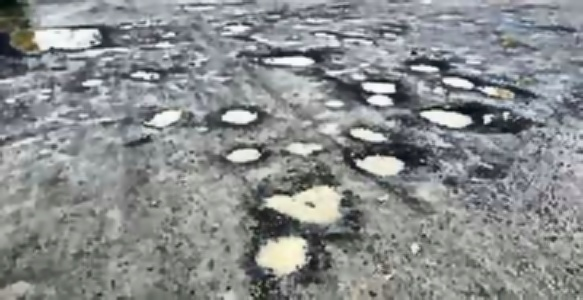pothole: (257, 180, 348, 223), (10, 23, 105, 52), (251, 232, 313, 274), (351, 149, 413, 177), (419, 103, 475, 127), (255, 50, 319, 67), (477, 81, 534, 100), (347, 123, 392, 143), (147, 106, 184, 128), (220, 105, 260, 124), (223, 146, 264, 162), (285, 139, 325, 155), (407, 56, 445, 72), (442, 72, 475, 88), (360, 79, 400, 92), (129, 67, 163, 80), (366, 93, 398, 106)
